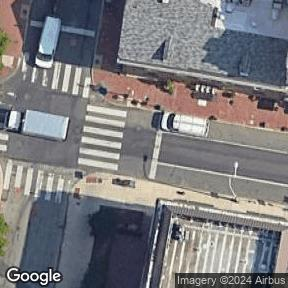vegetation: (0, 28, 10, 70), (0, 214, 10, 256)
